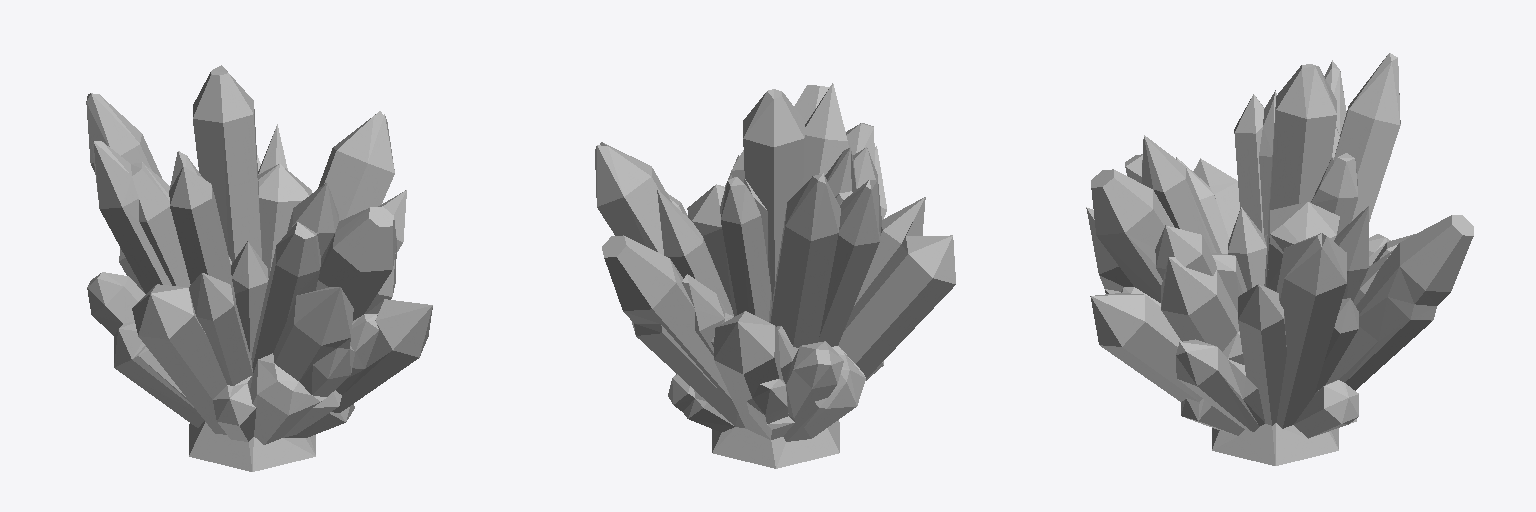
3 renders of one model, left to right at view 1: azimuth 30°, elevation 25°; view 2: azimuth 150°, elevation 25°; view 3: azimuth 270°, elevation 25°, orthographic.
Size of the model in its own units: 0.8802 by 1 by 0.9648.
1 materials, 1 textured.